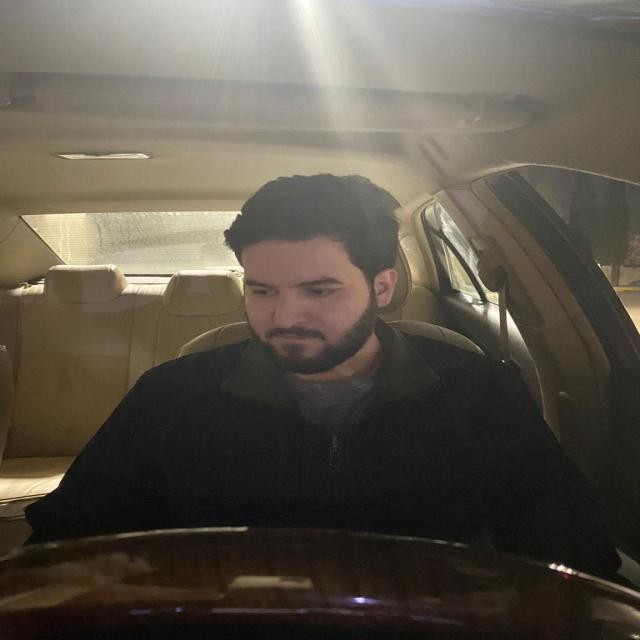person: (220, 169, 405, 376)
